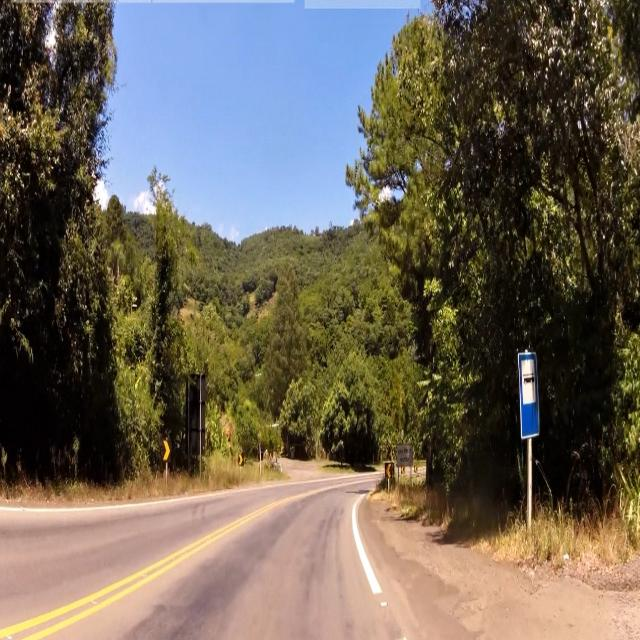S-14: (518, 349, 543, 437)
